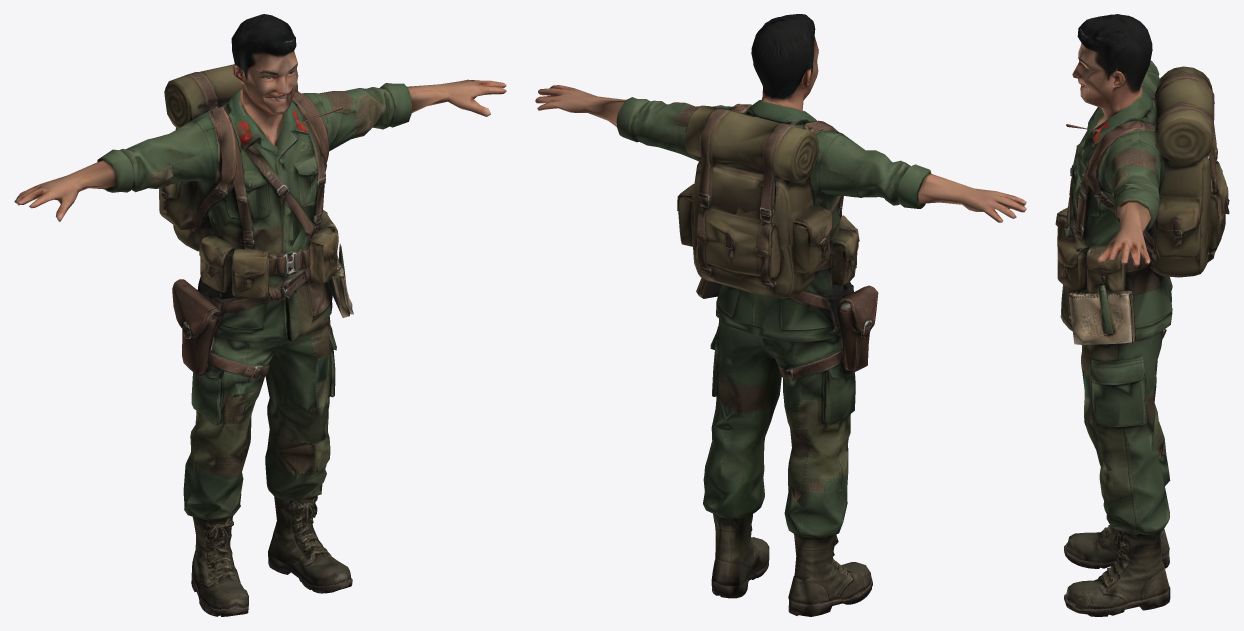
File: binh.glb
3 renders of one model, left to right at view 1: azimuth 30°, elevation 25°; view 2: azimuth 150°, elevation 25°; view 3: azimuth 270°, elevation 25°, orthographic.
Visible parts, largest first — view 1: tripo_node_855fcaf5-afbe-4c9f-b749-17f2af5830e0; view 2: tripo_node_855fcaf5-afbe-4c9f-b749-17f2af5830e0; view 3: tripo_node_855fcaf5-afbe-4c9f-b749-17f2af5830e0.
Boxes of the visible parts, x1,y1,x2,y2 form: tripo_node_855fcaf5-afbe-4c9f-b749-17f2af5830e0: (14,14,506,616); tripo_node_855fcaf5-afbe-4c9f-b749-17f2af5830e0: (535,14,1026,616); tripo_node_855fcaf5-afbe-4c9f-b749-17f2af5830e0: (1055,14,1229,616).
Size of the model in its own units: 0.8743 by 0.9774 by 0.2715.
1 material, 1 textured.
